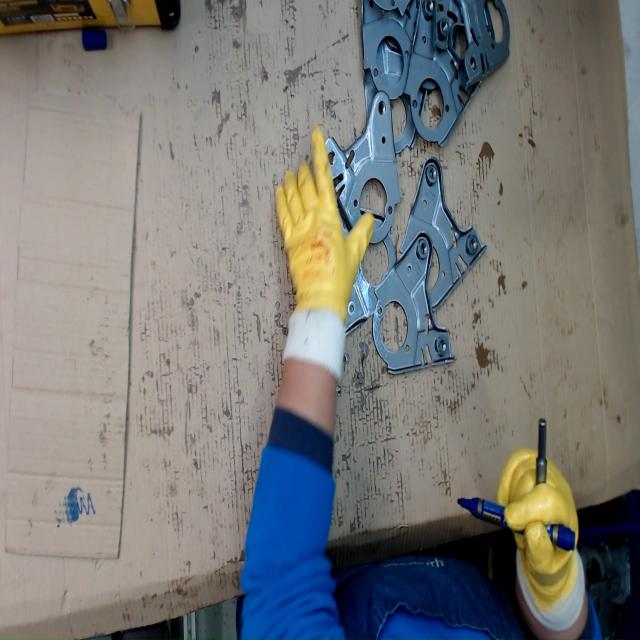hands: (274, 125, 376, 348), (494, 443, 582, 599)
